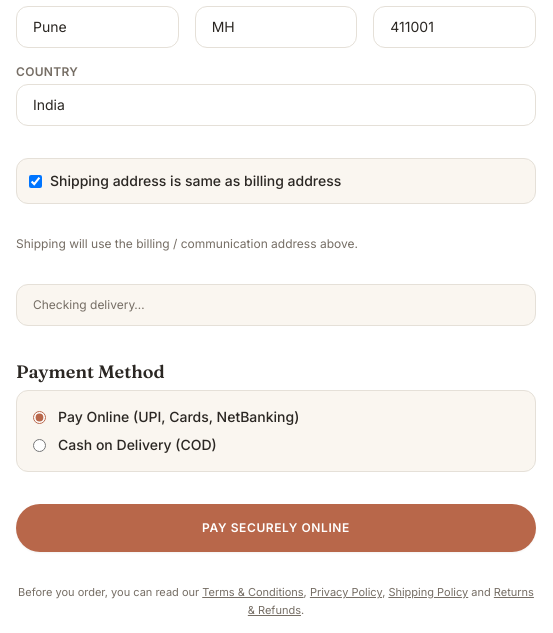
CheckoutPage — logged-in › displays a backend ownership/ordering error from createOrder instead of navigating
The width and height of the screenshot is (553, 633).
(page scrolled)
Click the button "Pay Securely Online": (276, 528) [16,504,536,552]
(page scrolled)
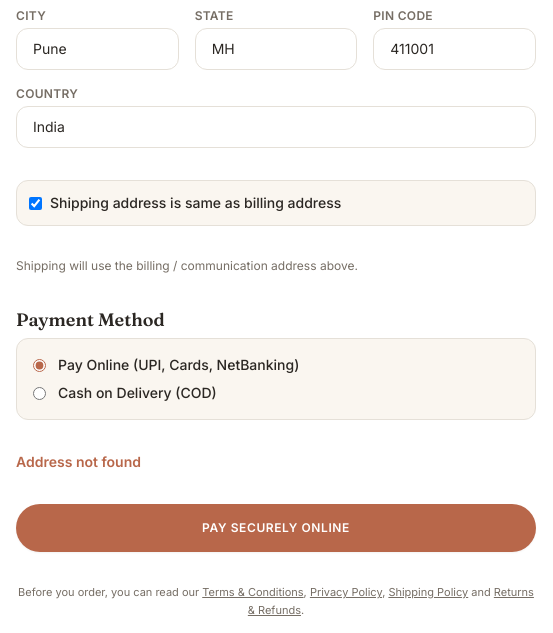
Result: the text "Address not found" is shown at [16,453,141,470]
